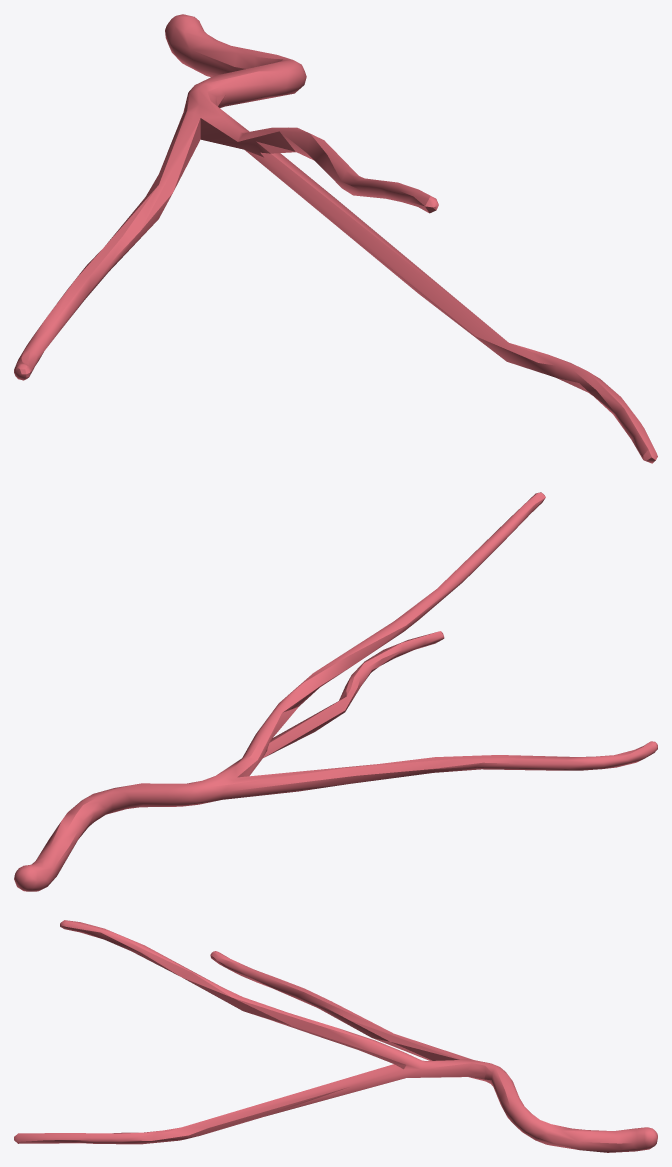
The model's file is fma70525_fj5143.glb.
3 views of the same model, one above another, from view 1: azimuth 30°, elevation 25°; view 2: azimuth 150°, elevation 25°; view 3: azimuth 270°, elevation 25° (orthographic). The views are drawn at different scales.
Visible parts, largest first — view 1: FMA70525_FJ5143; view 2: FMA70525_FJ5143; view 3: FMA70525_FJ5143.
Boxes of the visible parts, x1,y1,x2,y2 form: FMA70525_FJ5143: [14, 14, 657, 463]; FMA70525_FJ5143: [14, 492, 657, 891]; FMA70525_FJ5143: [14, 920, 657, 1152].
Bounding box in the file's own units: 0.0289 × 0.014 × 0.0481.
